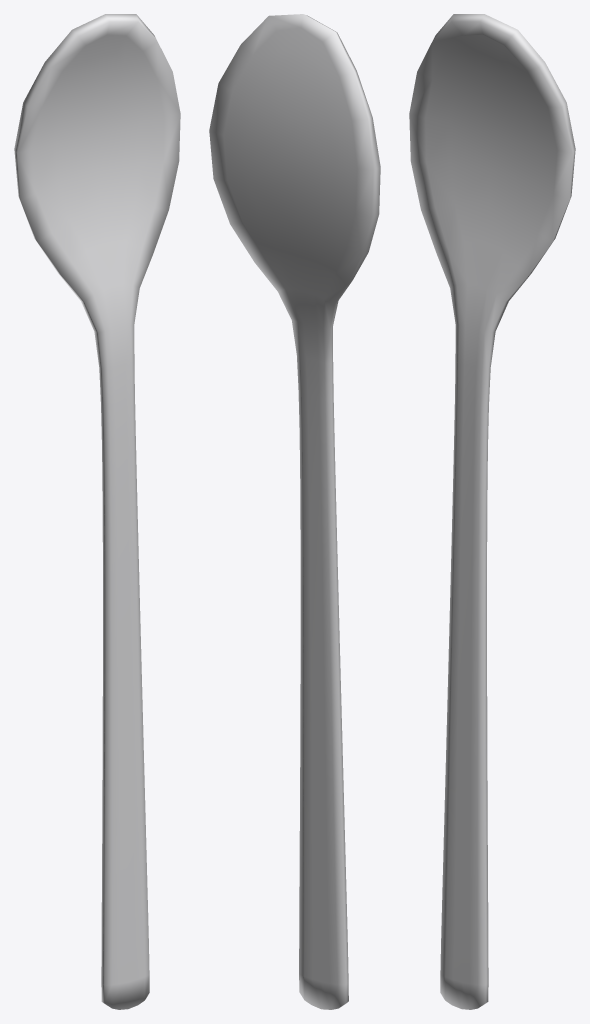
File: Spoon.fbx
3 views of the same model, side by side, from view 1: azimuth 30°, elevation 25°; view 2: azimuth 150°, elevation 25°; view 3: azimuth 330°, elevation 25° (orthographic). The views are drawn at different scales.
Parts seen in each view (by area): view 1: Retopo_Spoon.001; view 2: Retopo_Spoon.001; view 3: Retopo_Spoon.001.
Boxes of the visible parts, x1,y1,x2,y2 form: Retopo_Spoon.001: (14, 14, 180, 1009); Retopo_Spoon.001: (209, 14, 380, 1009); Retopo_Spoon.001: (409, 14, 575, 1009).
Bounding box in the file's own units: 1.69 × 9.7 × 0.6548.
Materials: 1 (1 with a texture image).
